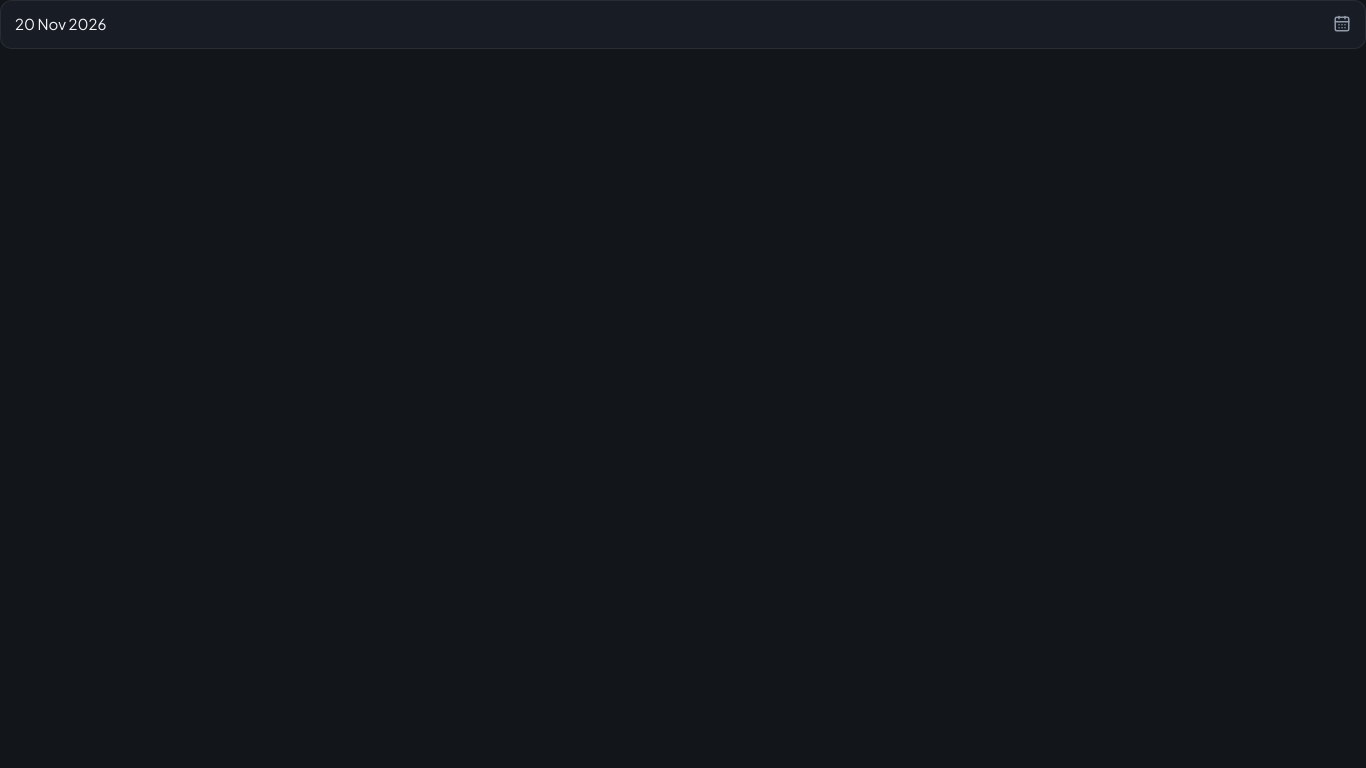
Test: DatePicker (a calendar in a bottom sheet) › opens on the month of the value and picks a day
Step 1. Click the button with aria-label "Day" → (61, 24), box [0,0,1365,48]
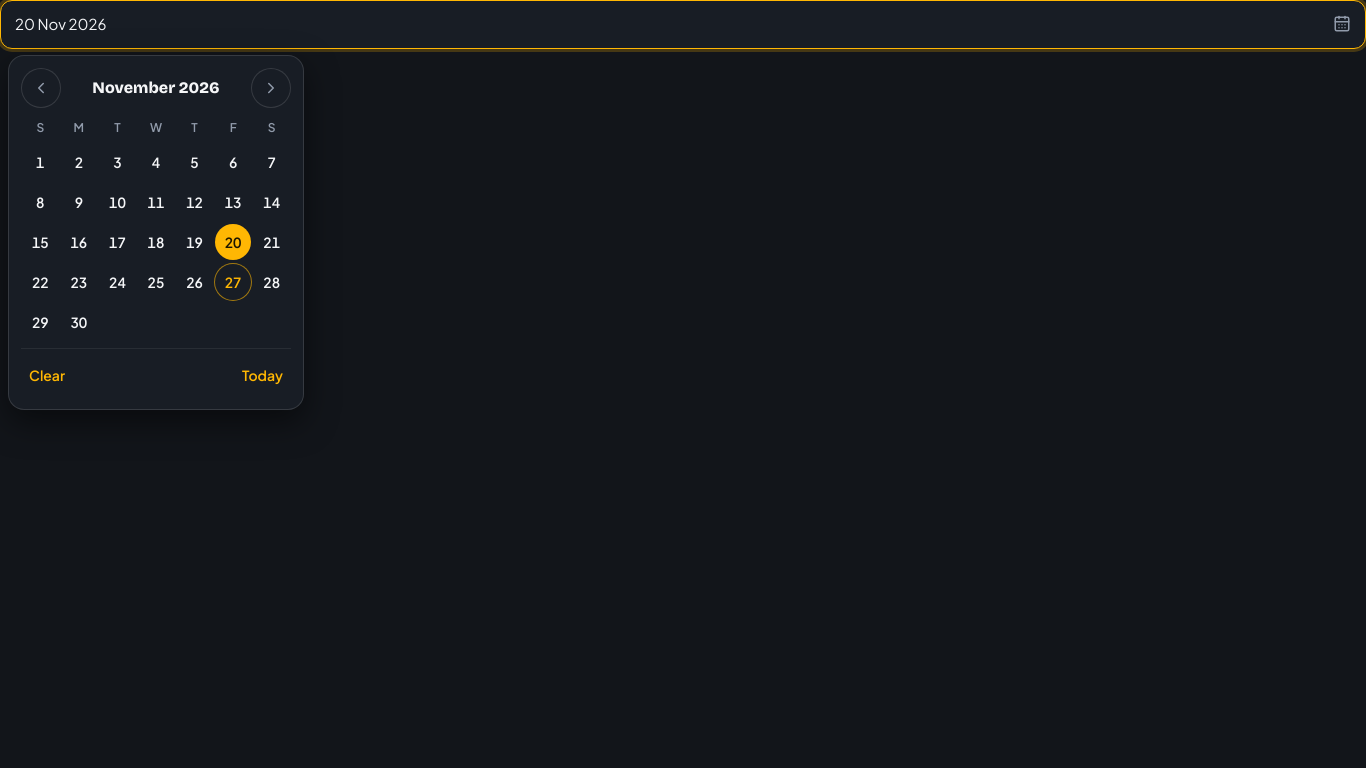
Now the dialog named "Day" is shown, box [8,54,304,410]
Now the text "November 2026" is shown, box [92,76,220,100]
Step 2. Click the button named "5 November 2026" → (195, 162), box [177,144,213,180]
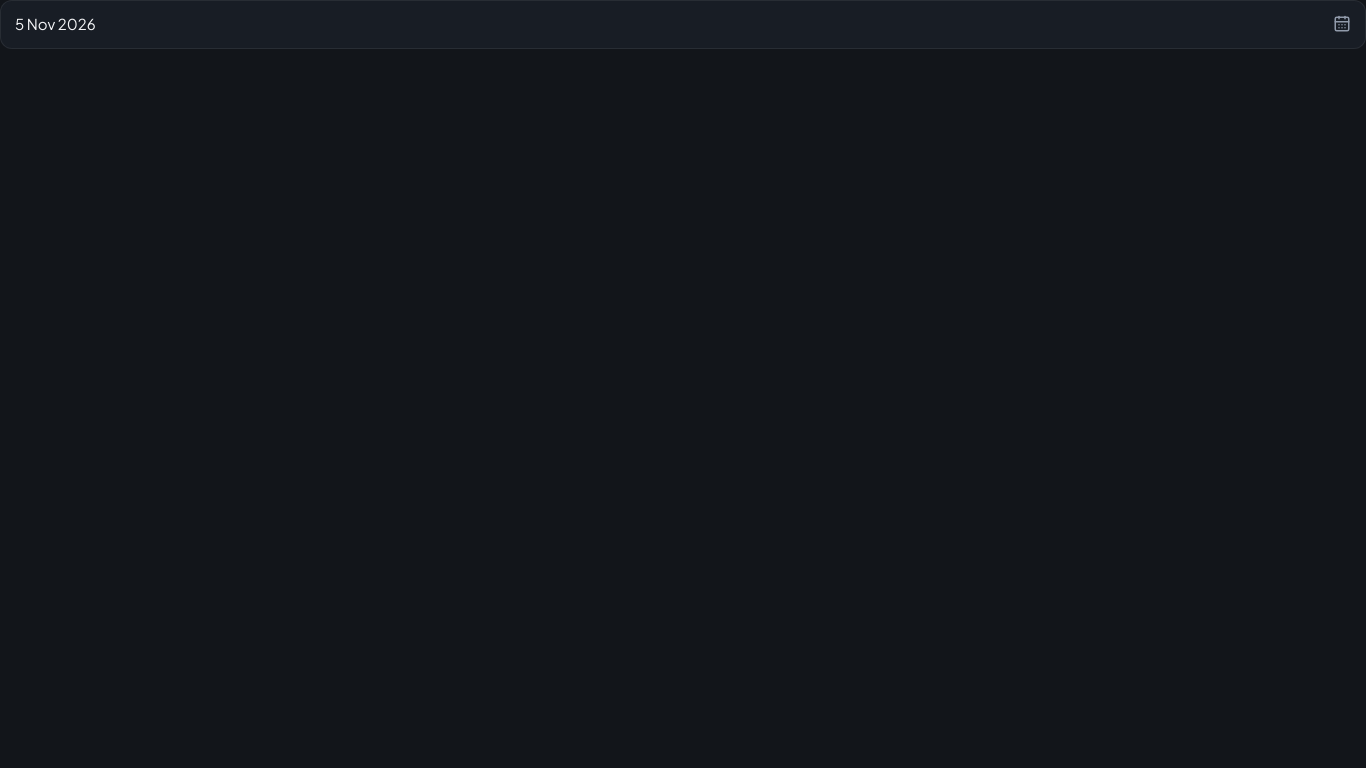
Now the dialog is gone
Now the button with aria-label "Day" reads "5 Nov 2026", box [0,0,1365,48]
